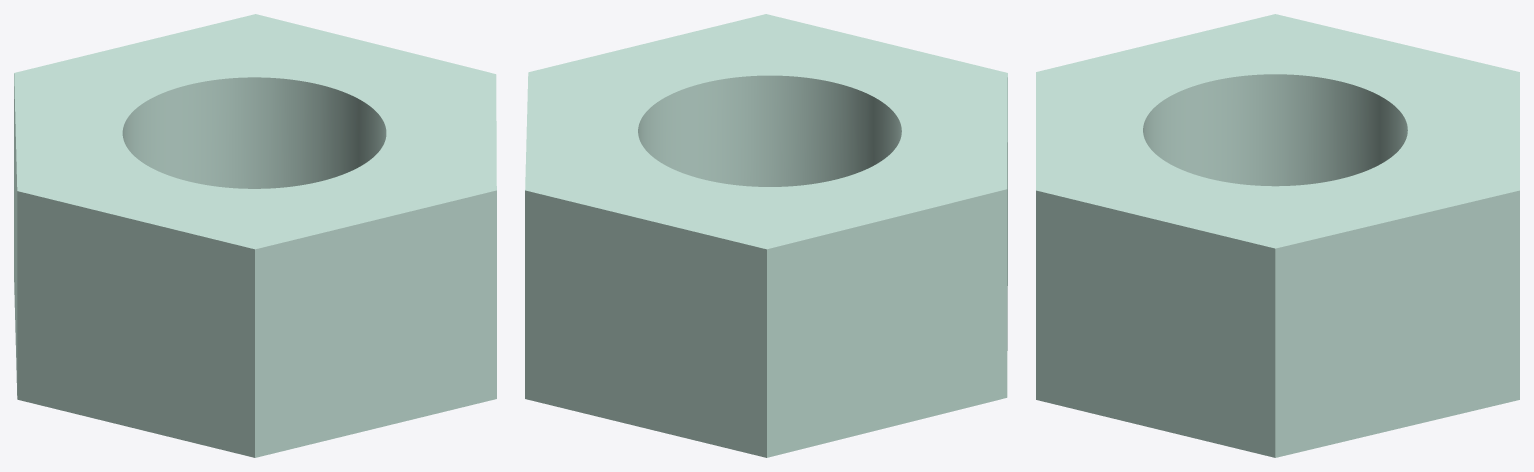
3 views of the same model, side by side, from view 1: azimuth 30°, elevation 25°; view 2: azimuth 150°, elevation 25°; view 3: azimuth 270°, elevation 25° (orthographic).
Visible parts, largest first — view 1: Renderer Node; view 2: Renderer Node; view 3: Renderer Node.
Part boxes in pixels (x1,y1,x2,y2): Renderer Node: [14, 14, 496, 457]; Renderer Node: [525, 14, 1007, 457]; Renderer Node: [1036, 14, 1519, 457].
Size of the model in its own units: 0.995 by 0.4141 by 0.8672.
